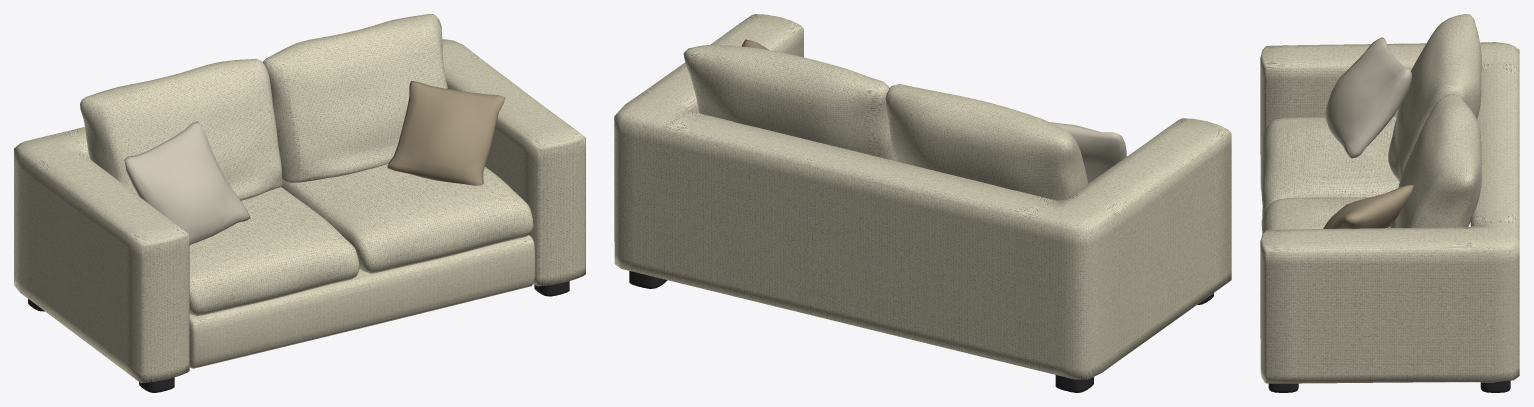
Rendered from burlap_sofa.obj.
3 views of the same model, side by side, from view 1: azimuth 30°, elevation 25°; view 2: azimuth 150°, elevation 25°; view 3: azimuth 270°, elevation 25° (orthographic). The views are drawn at different scales.
Visible parts, largest first — view 1: back_Plane.005, bigcushion2.002_Cube.024, base_Cube.021, bigcushion2_Cube.022, base_big_cushion2_Cube.001, base_big_cushion_Cube, cushion_dark_Cube.018, cushion_clear_Cube.019; view 2: back_Plane.005, bigcushion2.002_Cube.024, bigcushion2_Cube.022, cushion_clear_Cube.019; view 3: back_Plane.005, base_big_cushion_Cube, bigcushion2.002_Cube.024, bigcushion2_Cube.022, cushion_clear_Cube.019, base_big_cushion2_Cube.001, cushion_dark_Cube.018, leg4_Cylinder.014, leg3_Cylinder.011.
Part boxes in pixels (left/top/right/bottom): back_Plane.005: left=14, top=39, right=585, bottom=382; bigcushion2.002_Cube.024: left=263, top=14, right=447, bottom=182; base_Cube.021: left=189, top=235, right=534, bottom=368; bigcushion2_Cube.022: left=80, top=58, right=282, bottom=200; base_big_cushion2_Cube.001: left=281, top=164, right=533, bottom=273; base_big_cushion_Cube: left=189, top=187, right=359, bottom=316; cushion_dark_Cube.018: left=387, top=81, right=505, bottom=185; cushion_clear_Cube.019: left=124, top=121, right=250, bottom=244; back_Plane.005: left=614, top=14, right=1231, bottom=379; bigcushion2.002_Cube.024: left=683, top=44, right=896, bottom=161; bigcushion2_Cube.022: left=885, top=84, right=1088, bottom=200; cushion_clear_Cube.019: left=1049, top=122, right=1126, bottom=183; back_Plane.005: left=1260, top=42, right=1519, bottom=383; base_big_cushion_Cube: left=1261, top=116, right=1399, bottom=217; bigcushion2.002_Cube.024: left=1389, top=94, right=1481, bottom=227; bigcushion2_Cube.022: left=1388, top=14, right=1481, bottom=181; cushion_clear_Cube.019: left=1325, top=37, right=1411, bottom=158; base_big_cushion2_Cube.001: left=1261, top=197, right=1389, bottom=233; cushion_dark_Cube.018: left=1323, top=185, right=1413, bottom=228; leg4_Cylinder.014: left=1480, top=380, right=1510, bottom=392; leg3_Cylinder.011: left=1268, top=383, right=1298, bottom=392.
Bounding box in the file's own units: 170 × 79.72 × 89.96.
Materials: 4 (1 with a texture image).
